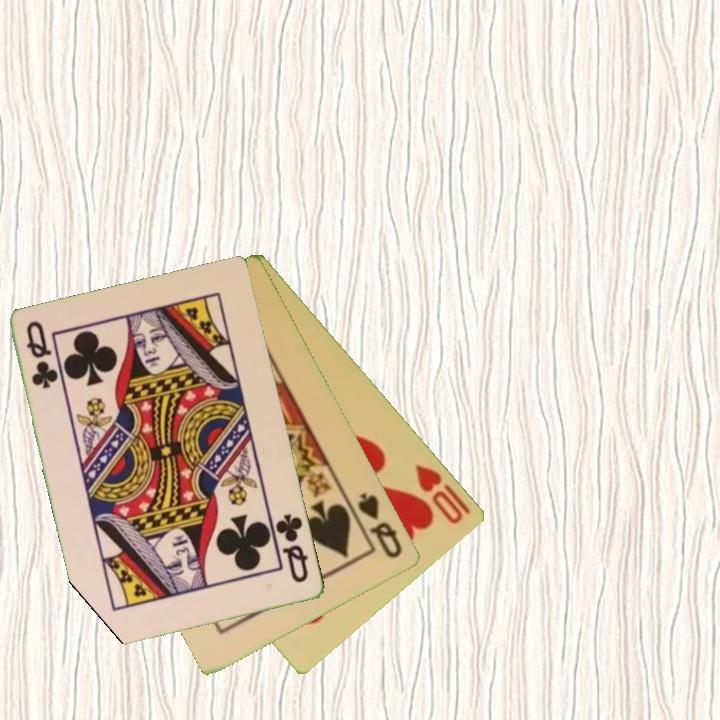10h: (412, 460, 474, 528)
Qc: (272, 510, 312, 586), (23, 317, 60, 393)
Qs: (354, 488, 406, 562)
